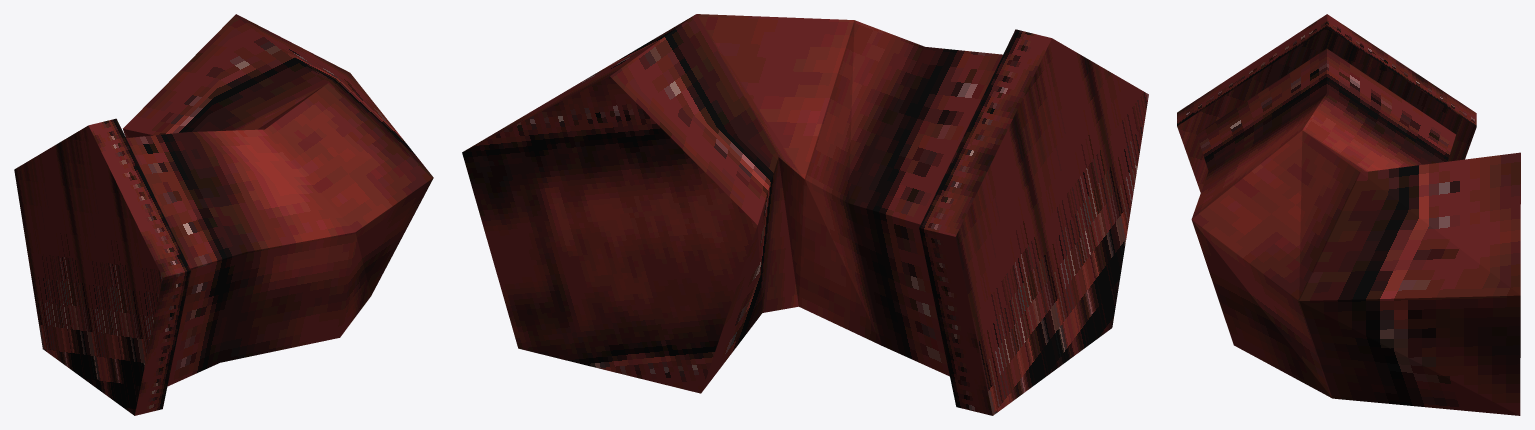
The model's file is Rohr_StückKurveGedreht [Rot]_1822.glb.
The picture shows the model from 3 angles, left to right: view 1: azimuth 30°, elevation 25°; view 2: azimuth 150°, elevation 25°; view 3: azimuth 270°, elevation 25°; orthographic projection. The views are drawn at different scales.
Visible parts, largest first — view 1: pCylinderShape79, pCylinderShape78; view 2: pCylinderShape79, pCylinderShape78; view 3: pCylinderShape79, pCylinderShape78.
Boxes of the visible parts, x1=… form: pCylinderShape79: x1=123, y1=14, x2=433, y2=386; pCylinderShape78: x1=14, y1=118, x2=190, y2=415; pCylinderShape79: x1=462, y1=14, x2=1002, y2=393; pCylinderShape78: x1=919, y1=29, x2=1148, y2=415; pCylinderShape79: x1=1191, y1=48, x2=1520, y2=415; pCylinderShape78: x1=1177, y1=14, x2=1476, y2=192.
Size of the model in its own units: 1.11 by 0.7657 by 0.9207.
Materials: 2 (2 with a texture image).
